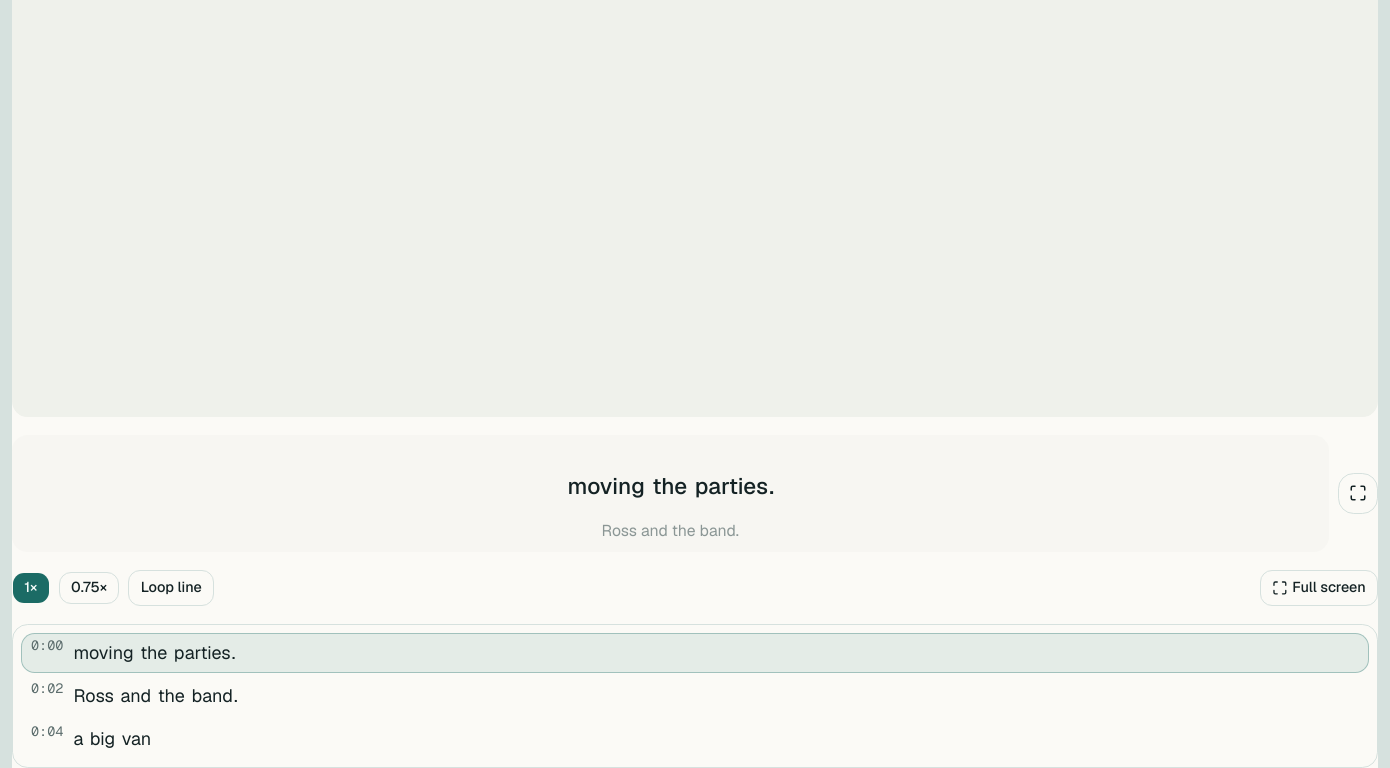
the popover, on a desktop pointer › once showing, follows the pointer to the next word at once (the skip delay)
(page scrolled)
Hover over the 2nd button "moving" at [104, 653], box [72,638,135,668]
Wait 250 ms
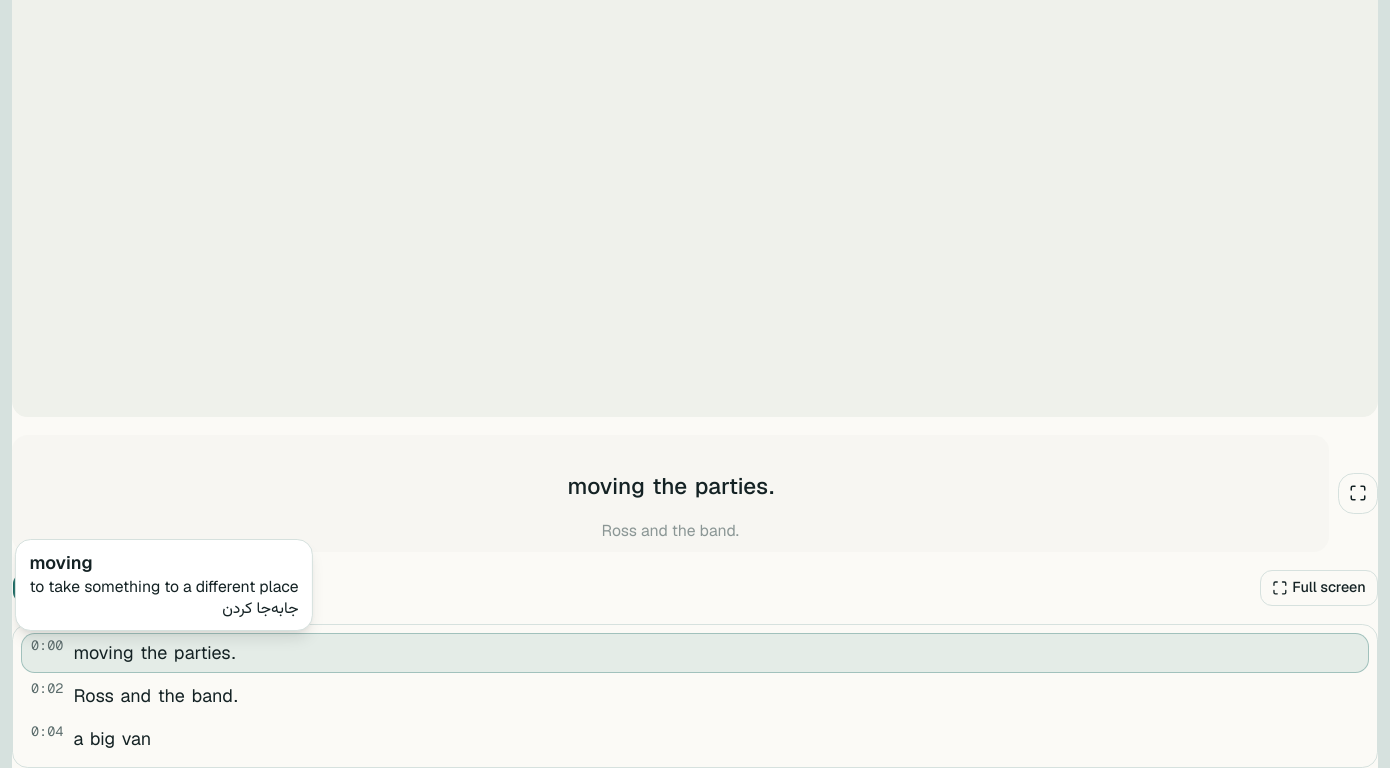
Move the pointer off the 2nd button "moving", box [72,638,135,668]
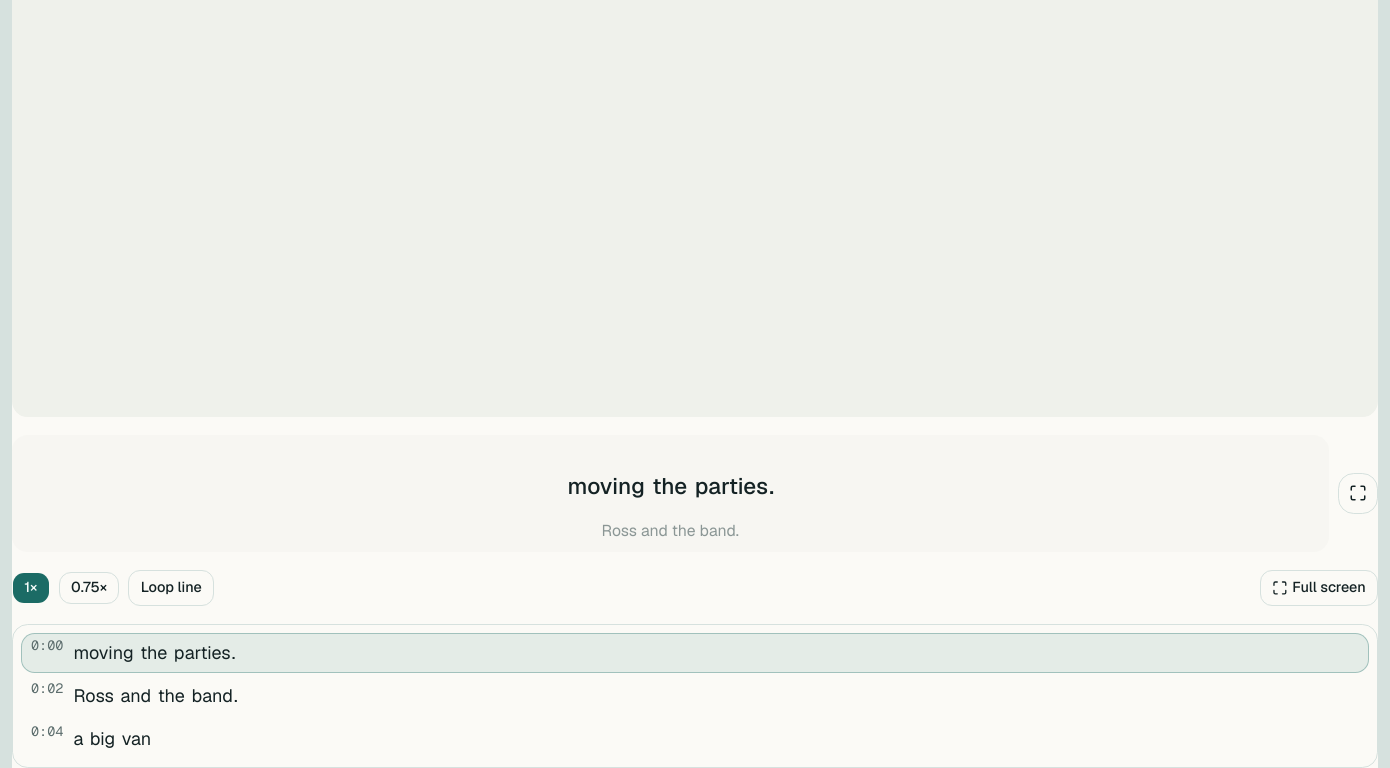
Hover over the 2nd button "parties" at [202, 653], box [173,638,232,668]
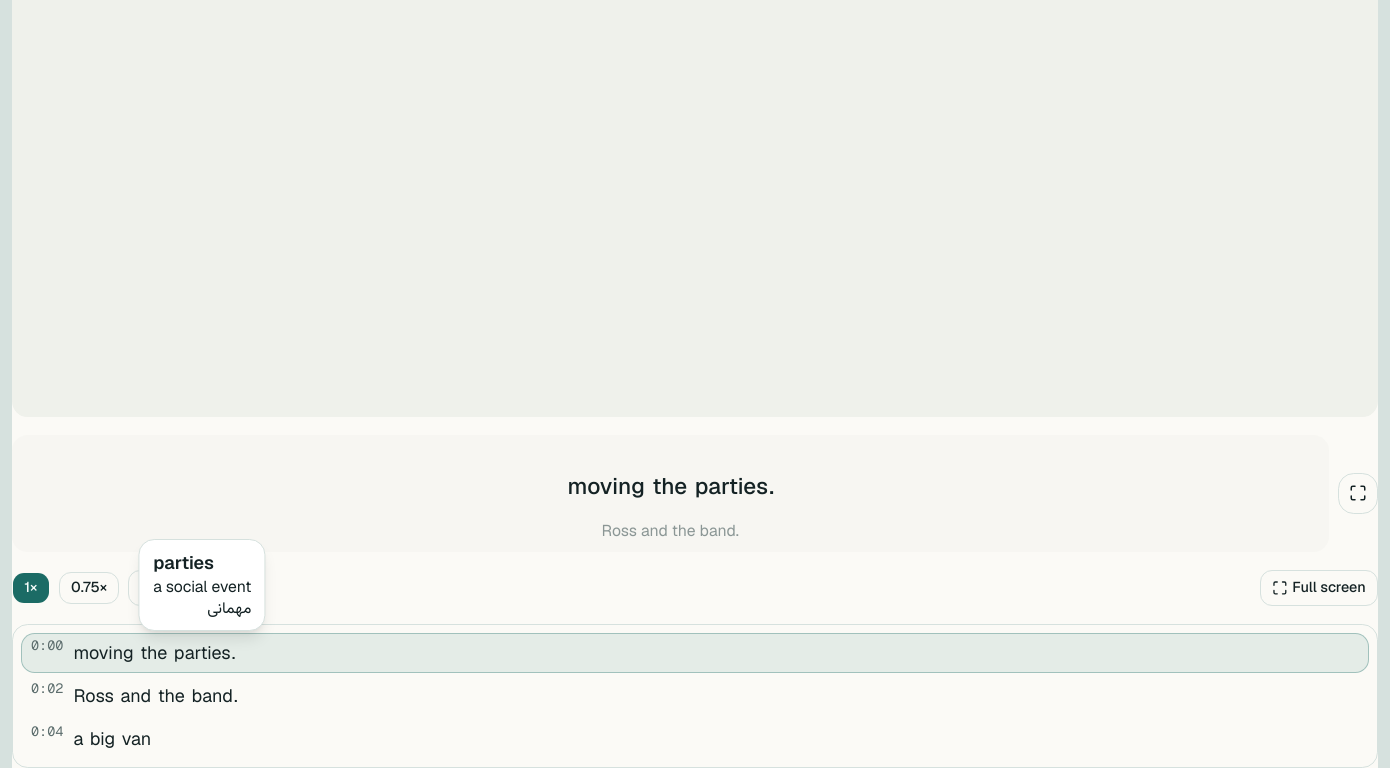
Result: the tooltip with test id "word-popover" shows "a social event" at [153,576,251,597]
